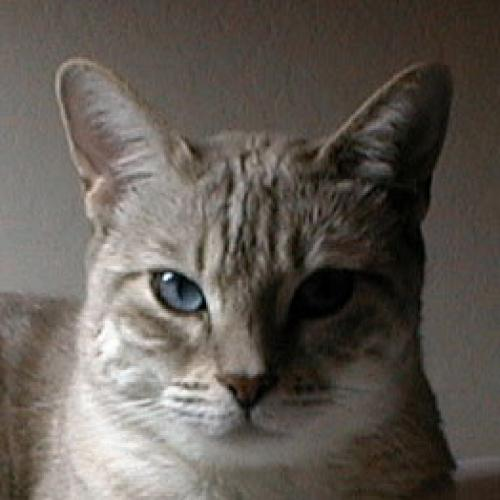bengal: (47, 44, 476, 464)
